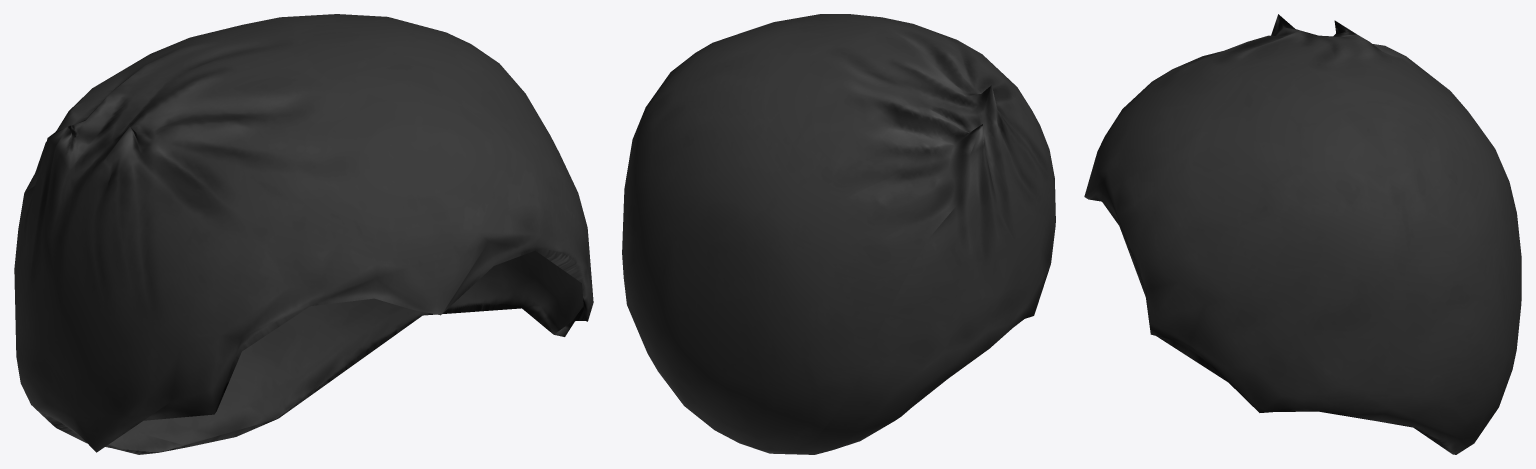
Rendered from AF_M_hair_24.fbx.
3 views of the same model, side by side, from view 1: azimuth 30°, elevation 25°; view 2: azimuth 150°, elevation 25°; view 3: azimuth 270°, elevation 25° (orthographic). The views are drawn at different scales.
Visible parts, largest first — view 1: AF_M_hair_24; view 2: AF_M_hair_24; view 3: AF_M_hair_24.
Part boxes in pixels (box(x1,y1,x2,y2)): AF_M_hair_24: box(14, 14, 593, 454); AF_M_hair_24: box(622, 14, 1055, 454); AF_M_hair_24: box(1084, 14, 1521, 454).
Size of the model in its own units: 678 by 626 by 673.
